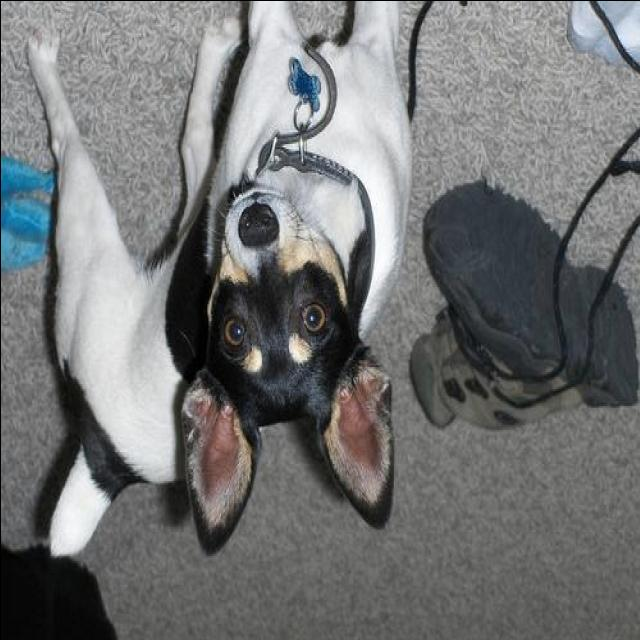toy_terrier: (19, 1, 411, 562)
